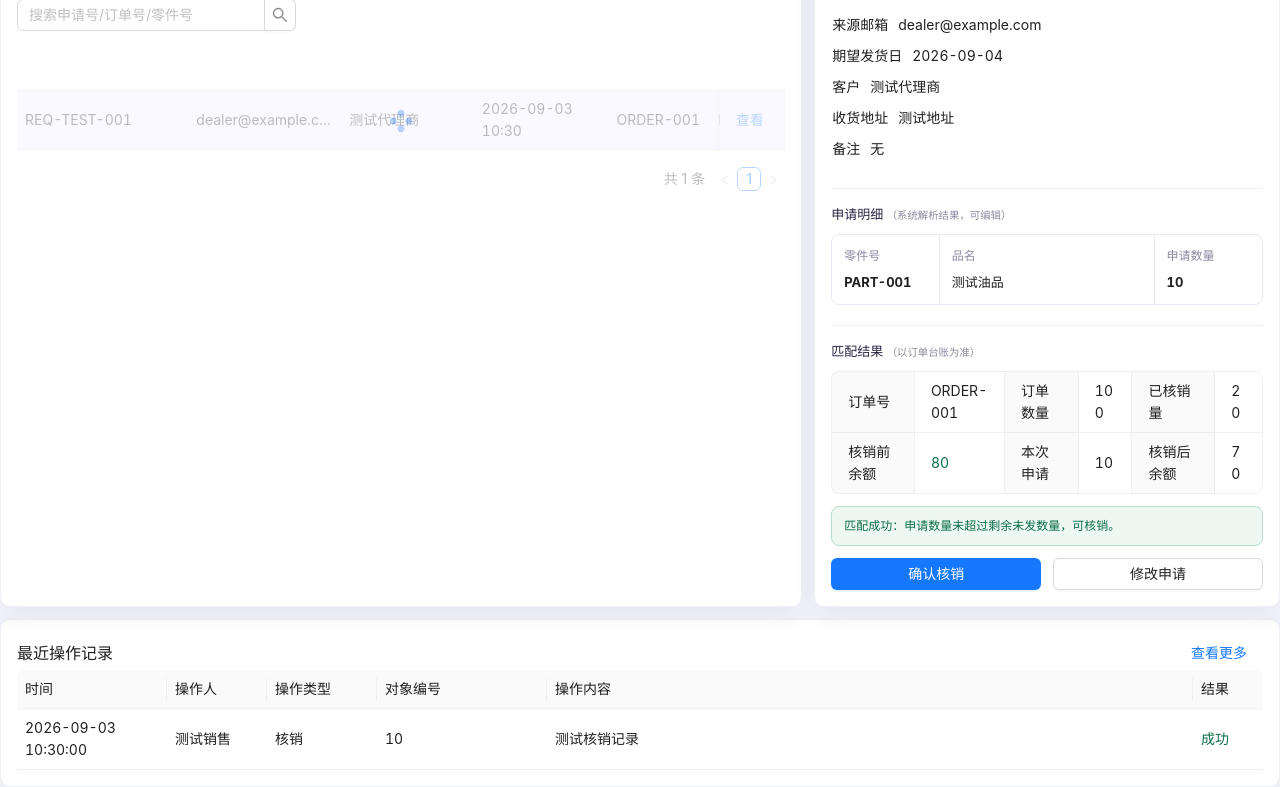
Test case: Vue dashboard › confirms a pending application then refreshes its status and balance
(page scrolled)
Step 1. Click the button "确认核销" → (936, 574), box [831,558,1041,590]
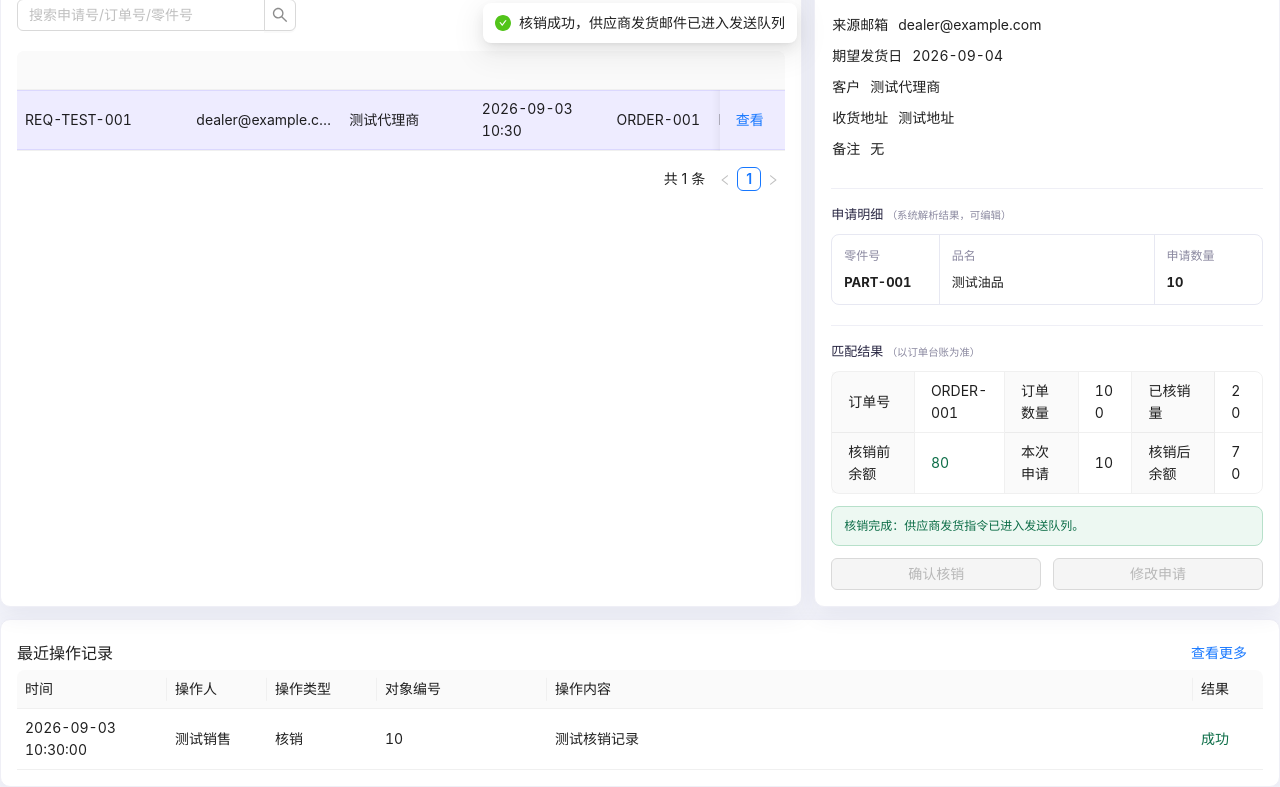
Expected: the button "确认核销" is disabled, [831,558,1041,590]
